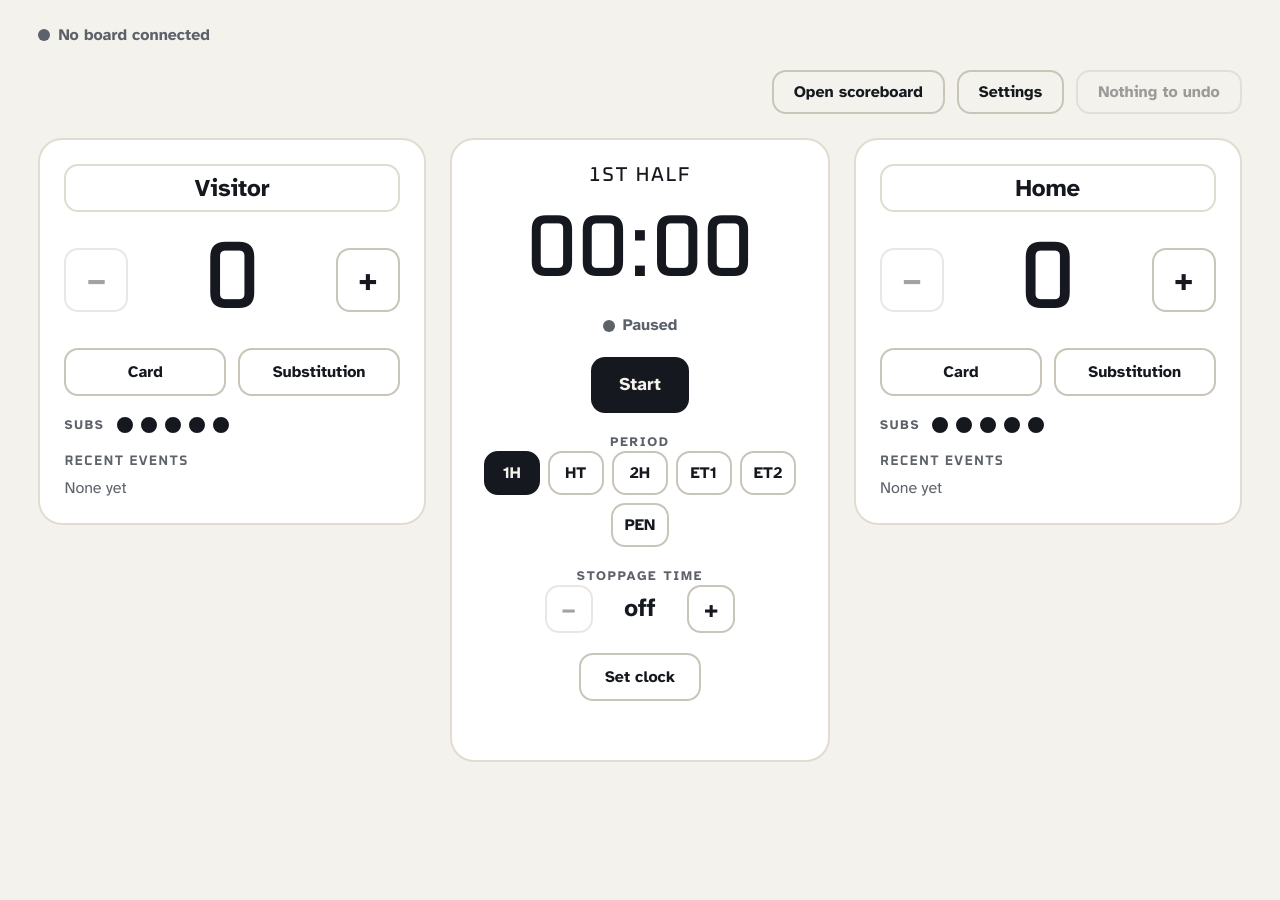
FootballConsole › score › logs goals in the team’s recent events
Click the button named "Goal for Home" at (1184, 280), box [1152,248,1216,312]
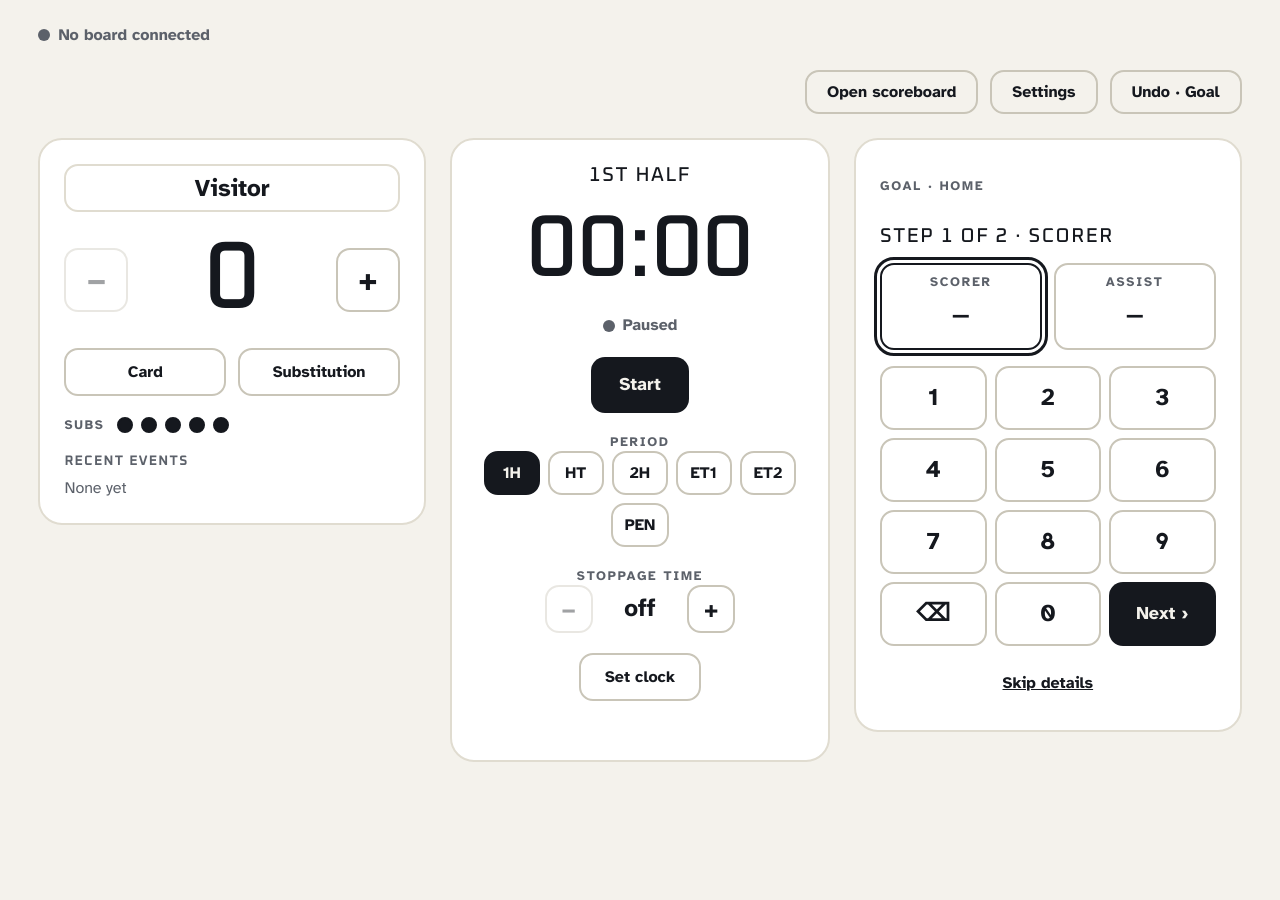
Click the button "Skip details" at (1048, 684), box [880,662,1216,706]
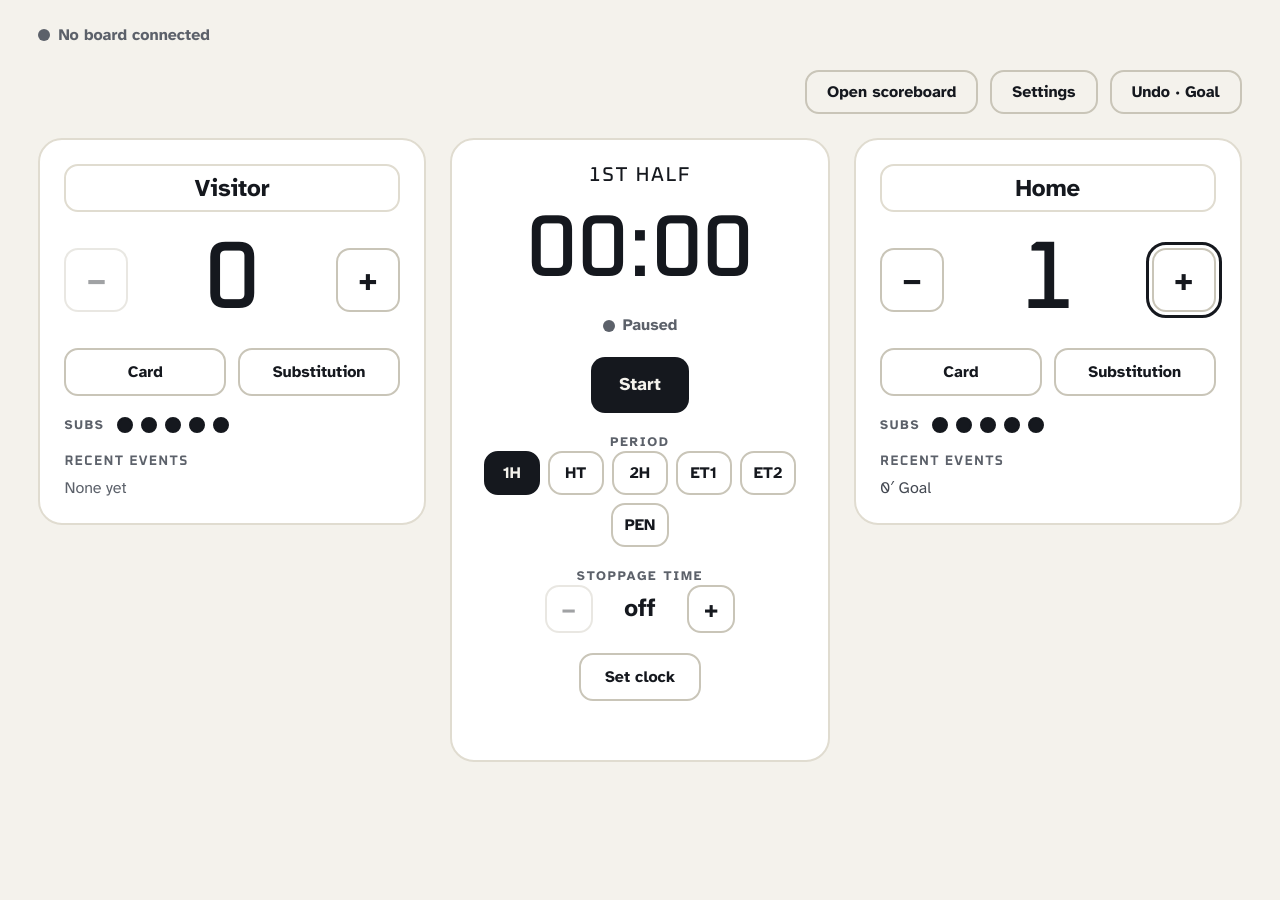
Expected: the text "None yet" is shown, [64,478,127,498]
Now the list item "0′ Goal" is shown, box [880,478,931,498]
